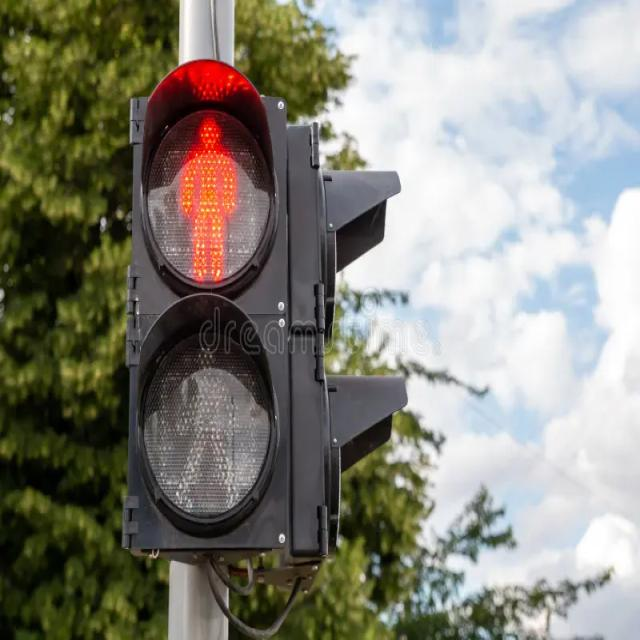red: (148, 101, 276, 276)
